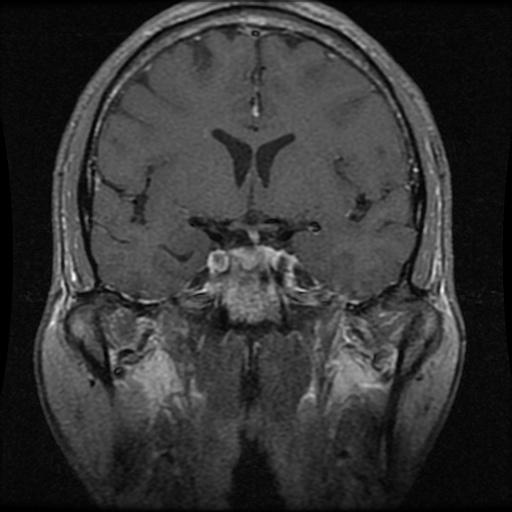pituitary: (231, 246, 267, 267)
